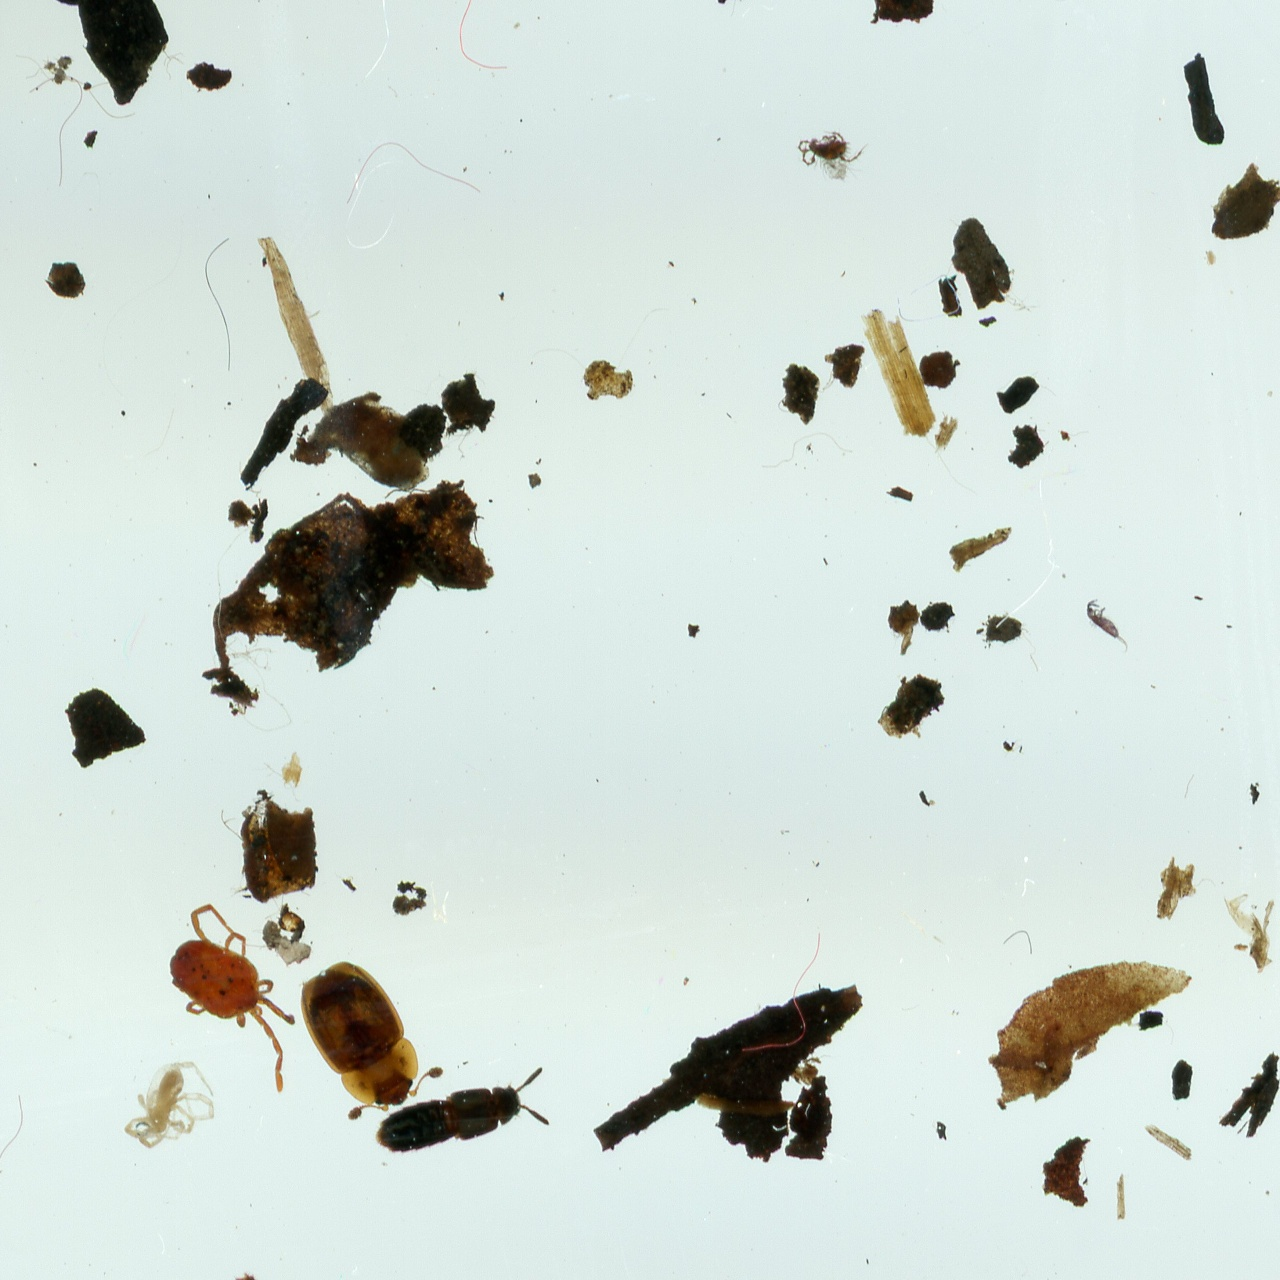arthropod: (131, 891, 350, 1098), (278, 936, 451, 1133), (359, 1064, 558, 1173), (123, 1058, 217, 1152), (1074, 592, 1146, 658), (792, 127, 870, 185)
